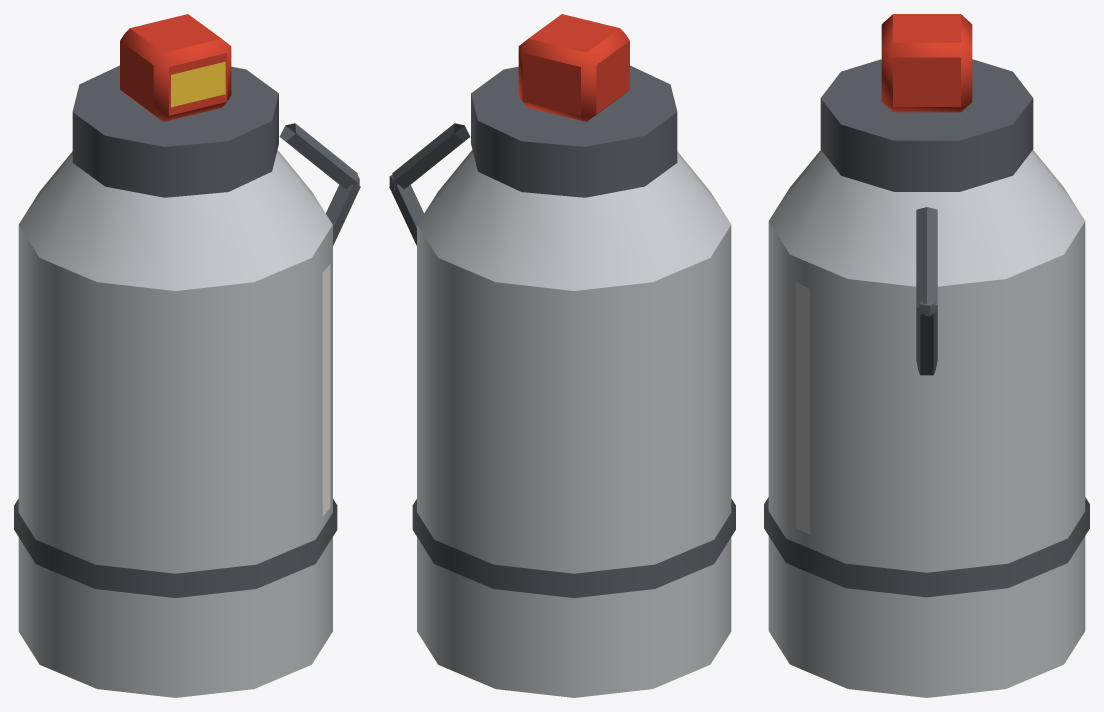
Rendered from prop_milk_can.glb.
3 views of the same model, side by side, from view 1: azimuth 30°, elevation 25°; view 2: azimuth 150°, elevation 25°; view 3: azimuth 270°, elevation 25° (orthographic).
Parts seen in each view (by area): view 1: prop_milk_can; view 2: prop_milk_can; view 3: prop_milk_can.
Boxes of the visible parts, bbox=[...] form: prop_milk_can: bbox=[14, 14, 360, 697]; prop_milk_can: bbox=[389, 14, 735, 697]; prop_milk_can: bbox=[764, 14, 1089, 697].
Size of the model in its own units: 0.1661 by 0.294 by 0.144.
Materials: 1 (1 with a texture image).
